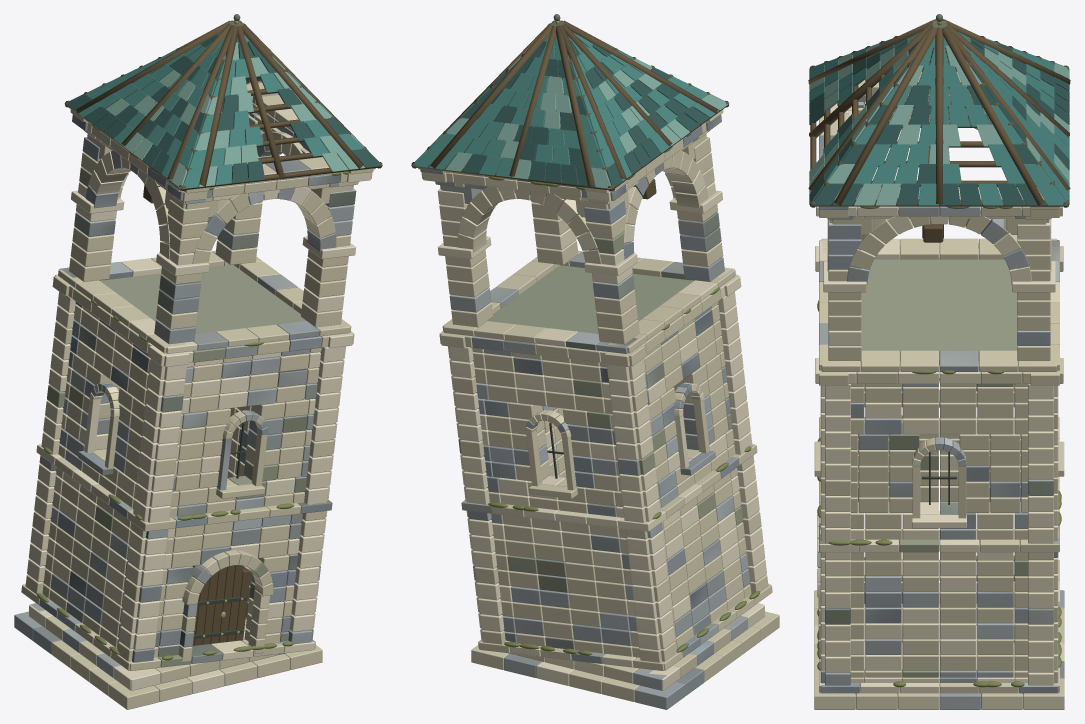
The model's file is SM_RB_Tower.fbx.
3 views of the same model, side by side, from view 1: azimuth 30°, elevation 25°; view 2: azimuth 150°, elevation 25°; view 3: azimuth 270°, elevation 25° (orthographic). The views are drawn at different scales.
Parts seen in each view (by area): view 1: SM_RB_Tower; view 2: SM_RB_Tower; view 3: SM_RB_Tower.
Part boxes in pixels (left/top/right/bottom): SM_RB_Tower: left=14, top=14, right=382, bottom=709; SM_RB_Tower: left=411, top=14, right=779, bottom=709; SM_RB_Tower: left=808, top=14, right=1070, bottom=709.
Bounding box in the file's own units: 7.81 × 6.28 × 17.96.
